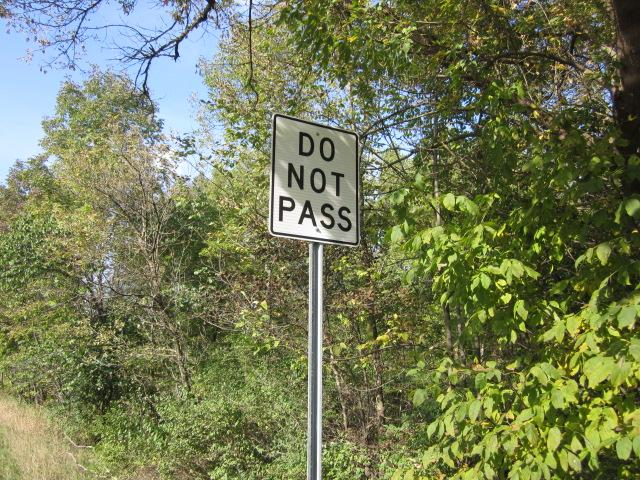regulatory: (265, 109, 363, 250)
